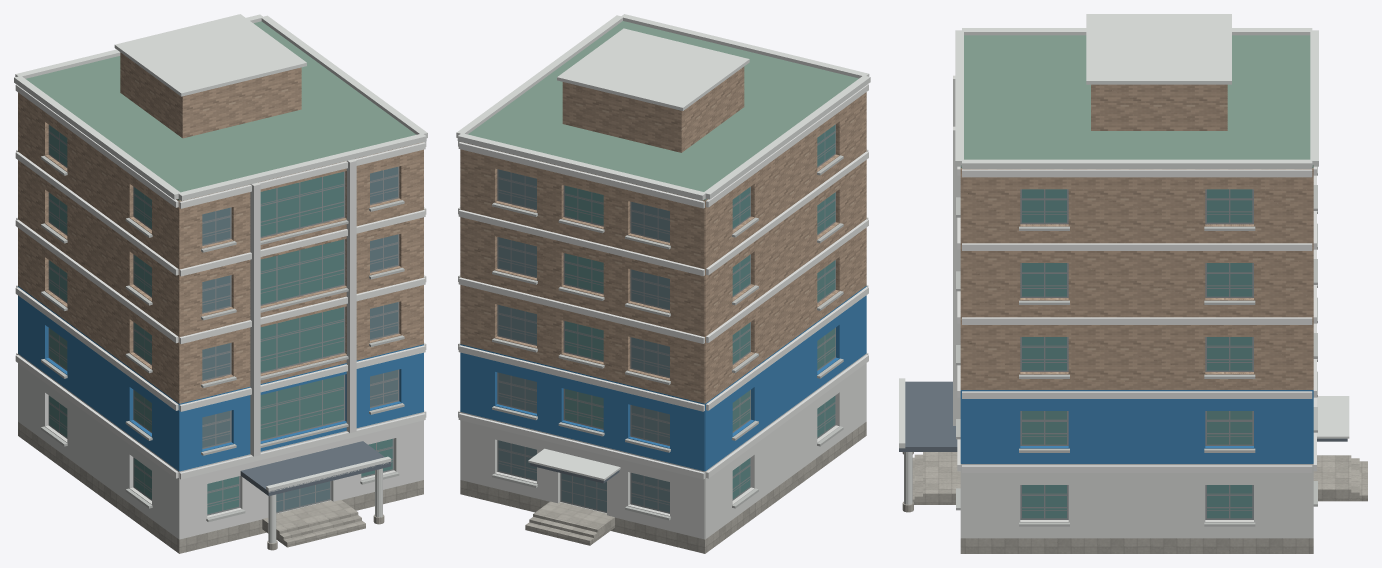
3 views of the same model, side by side, from view 1: azimuth 30°, elevation 25°; view 2: azimuth 150°, elevation 25°; view 3: azimuth 270°, elevation 25° (orthographic). The views are drawn at different scales.
Parts seen in each view (by area): view 1: central-hub__buffbrick, central-hub__panel, central-hub__tealglass, central-hub__roof, central-hub__cap, central-hub__band, central-hub__blue, central-hub__frame, central-hub__glass, central-hub__sill, central-hub__stone, central-hub__canopy (+2 smaller); view 2: central-hub__buffbrick, central-hub__roof, central-hub__blue, central-hub__cap, central-hub__panel, central-hub__band, central-hub__glass, central-hub__tealglass, central-hub__frame, central-hub__stone, central-hub__sill, central-hub__stair-courtyard (+1 smaller); view 3: central-hub__buffbrick, central-hub__roof, central-hub__panel, central-hub__cap, central-hub__blue, central-hub__band, central-hub__tealglass, central-hub__stone, central-hub__frame, central-hub__sill, central-hub__canopy, central-hub__threshold-front (+3 smaller).
Part boxes in pixels (x1,y1,x2,y2): central-hub__buffbrick: (18, 52, 423, 403); central-hub__panel: (18, 159, 423, 539); central-hub__tealglass: (49, 125, 392, 514); central-hub__roof: (26, 21, 416, 200); central-hub__cap: (14, 14, 427, 543); central-hub__band: (15, 84, 426, 479); central-hub__blue: (18, 286, 423, 471); central-hub__frame: (48, 125, 399, 515); central-hub__glass: (202, 167, 397, 511); central-hub__sill: (41, 155, 404, 522); central-hub__stone: (18, 422, 423, 553); central-hub__canopy: (240, 441, 391, 495); central-hub__buffbrick: (460, 66, 866, 403); central-hub__roof: (468, 21, 858, 200); central-hub__blue: (460, 286, 866, 471); central-hub__cap: (456, 14, 870, 480); central-hub__panel: (460, 353, 866, 539); central-hub__band: (458, 84, 868, 479); central-hub__glass: (498, 169, 669, 512); central-hub__tealglass: (565, 125, 835, 498); central-hub__frame: (497, 124, 835, 513); central-hub__stone: (460, 422, 866, 553); central-hub__sill: (492, 155, 843, 520); central-hub__stair-courtyard: (525, 511, 601, 545); central-hub__buffbrick: (960, 84, 1313, 389); central-hub__roof: (960, 35, 1313, 167); central-hub__panel: (953, 75, 1313, 538); central-hub__cap: (899, 14, 1349, 504); central-hub__blue: (960, 390, 1313, 463); central-hub__band: (957, 166, 1316, 472); central-hub__tealglass: (1022, 189, 1252, 518); central-hub__stone: (902, 452, 1313, 553); central-hub__frame: (1020, 189, 1253, 519); central-hub__sill: (956, 166, 1317, 526); central-hub__canopy: (899, 381, 1347, 451); central-hub__threshold-front: (931, 452, 960, 504).
Size of the model in its own units: 14.5 by 22.08 by 21.27.
13 materials, 2 textured.
